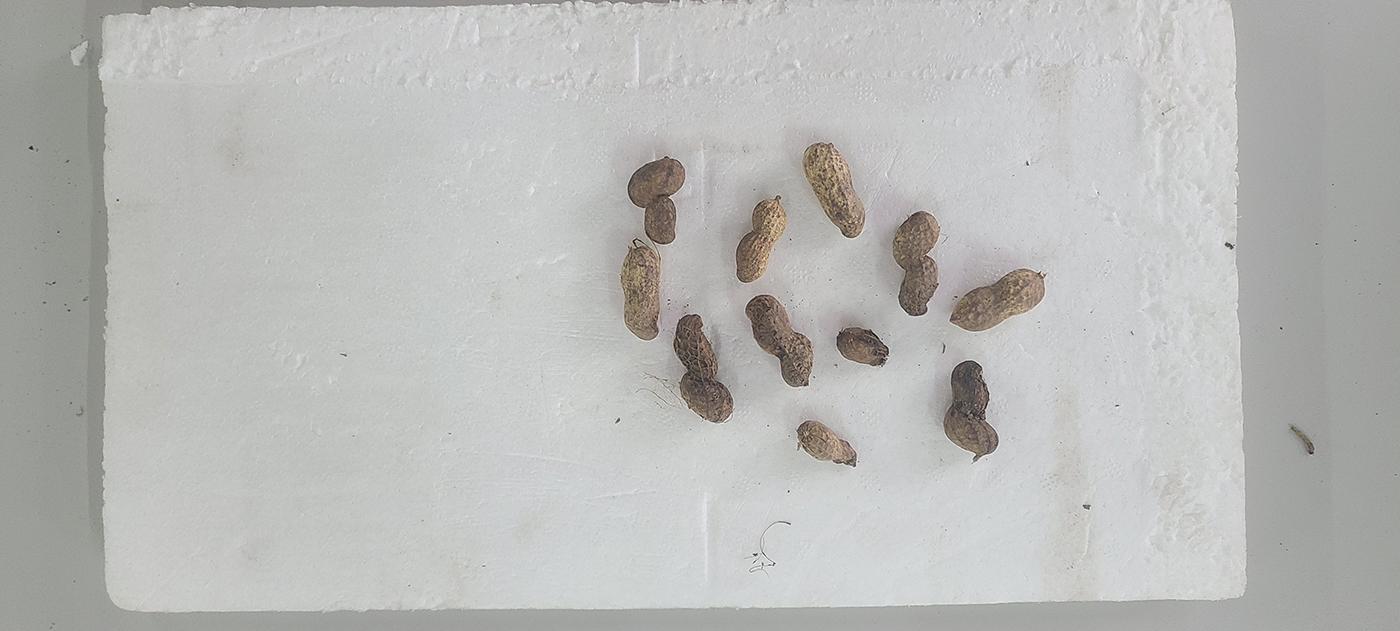l: (672, 313, 733, 422), (746, 293, 813, 388), (802, 142, 866, 237), (950, 270, 1045, 332), (942, 360, 998, 452), (892, 209, 940, 316), (736, 197, 787, 283), (622, 246, 662, 341), (627, 157, 686, 207), (798, 421, 857, 467), (837, 327, 890, 367), (644, 194, 677, 245)
